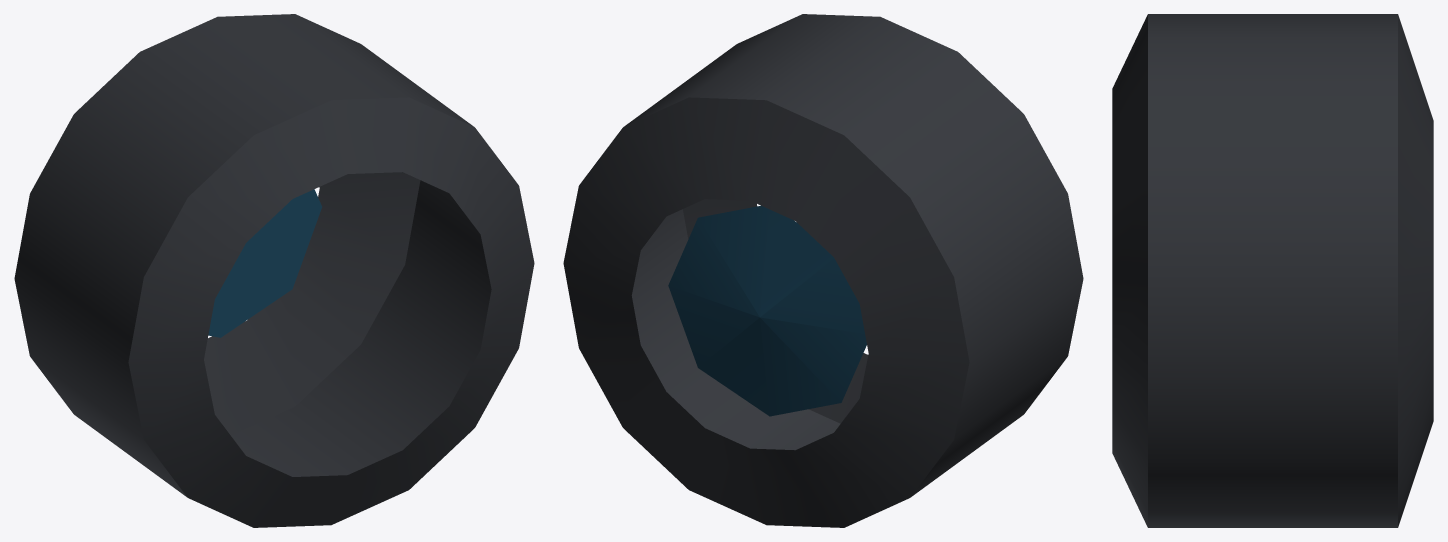
The model's file is fl_lens_head.obj.
3 renders of one model, left to right at view 1: azimuth 30°, elevation 25°; view 2: azimuth 150°, elevation 25°; view 3: azimuth 270°, elevation 25°, orthographic. The views are drawn at different scales.
Parts seen in each view (by area): view 1: fl_lens_head; view 2: fl_lens_head; view 3: fl_lens_head.
Part boxes in pixels (bbox=[...]): fl_lens_head: bbox=[14, 14, 534, 527]; fl_lens_head: bbox=[563, 14, 1083, 527]; fl_lens_head: bbox=[1112, 14, 1433, 527].
Size of the model in its own units: 0.72 by 0.72 by 0.45.
